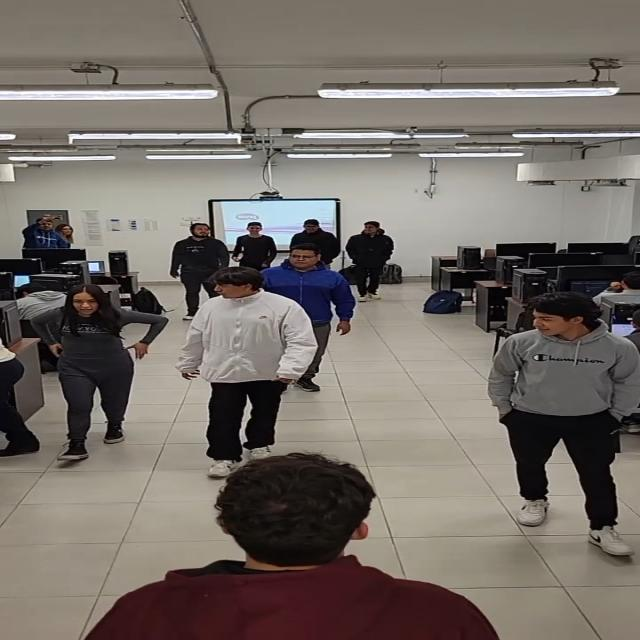Persona: (79, 455, 504, 640), (485, 292, 640, 557), (174, 265, 322, 480), (27, 283, 172, 462), (243, 249, 354, 392), (168, 223, 229, 321), (344, 221, 396, 303), (230, 220, 280, 274), (288, 217, 340, 267)
